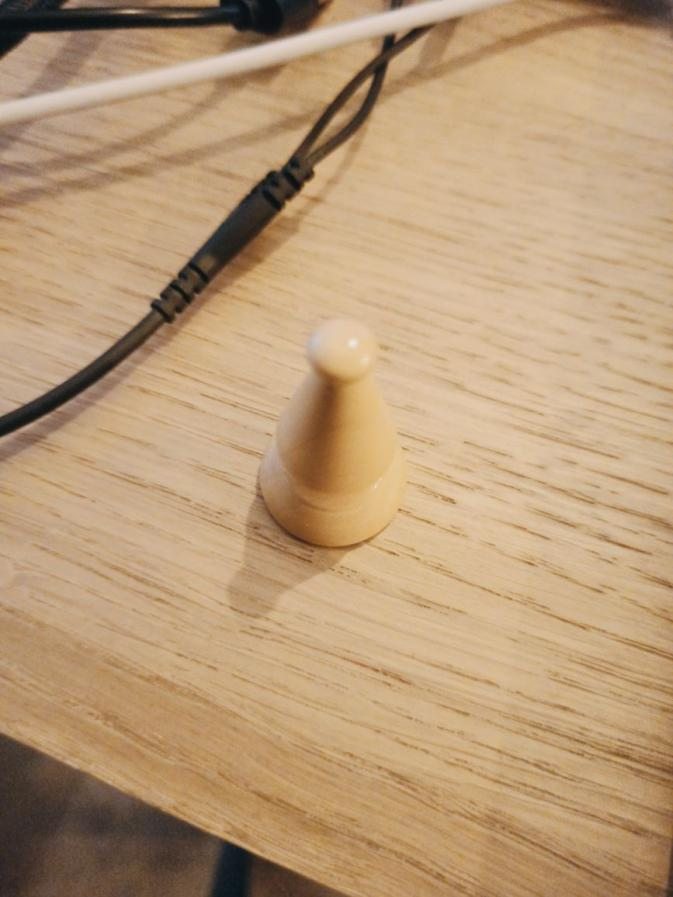wbishop: (253, 316, 412, 549)
